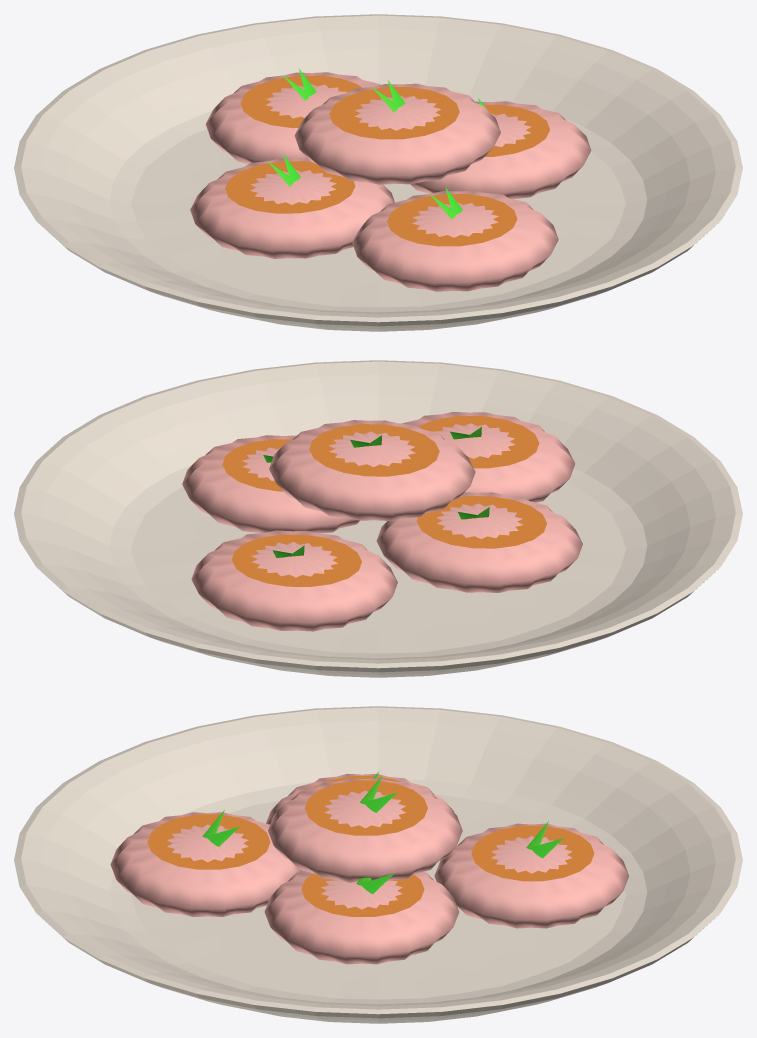
File: kue kamir.fbx
The picture shows the model from 3 angles, top to bottom: view 1: azimuth 30°, elevation 25°; view 2: azimuth 150°, elevation 25°; view 3: azimuth 270°, elevation 25°; orthographic projection.
Visible parts, largest first — view 1: Cylinder, Cylinder.005, Cylinder.007, Cylinder.009, Cylinder.001, Cylinder.003, Cylinder.006, Cylinder.008, Cylinder.010, Cylinder.004, Cylinder.002; view 2: Cylinder, Cylinder.007, Cylinder.003, Cylinder.009, Cylinder.001, Cylinder.005, Cylinder.008, Cylinder.004, Cylinder.010, Cylinder.006, Cylinder.002; view 3: Cylinder, Cylinder.007, Cylinder.003, Cylinder.001, Cylinder.005, Cylinder.004, Cylinder.008, Cylinder.006, Cylinder.002, Cylinder.009.
Part boxes in pixels (x1=…): Cylinder: x1=14, y1=14, x2=742, y2=331; Cylinder.005: x1=352, y1=190, x2=558, y2=291; Cylinder.007: x1=294, y1=83, x2=500, y2=184; Cylinder.009: x1=190, y1=158, x2=394, y2=258; Cylinder.001: x1=410, y1=101, x2=591, y2=199; Cylinder.003: x1=205, y1=72, x2=380, y2=163; Cylinder.006: x1=387, y1=194, x2=517, y2=246; Cylinder.008: x1=329, y1=87, x2=459, y2=139; Cylinder.010: x1=225, y1=161, x2=355, y2=213; Cylinder.004: x1=240, y1=75, x2=361, y2=127; Cylinder.002: x1=484, y1=104, x2=549, y2=156; Cylinder: x1=14, y1=360, x2=742, y2=677; Cylinder.007: x1=269, y1=420, x2=475, y2=520; Cylinder.003: x1=191, y1=530, x2=397, y2=631; Cylinder.009: x1=376, y1=492, x2=582, y2=592; Cylinder.001: x1=182, y1=435, x2=359, y2=533; Cylinder.005: x1=401, y1=411, x2=575, y2=502; Cylinder.008: x1=309, y1=424, x2=439, y2=476; Cylinder.004: x1=231, y1=534, x2=361, y2=586; Cylinder.010: x1=416, y1=496, x2=546, y2=548; Cylinder.006: x1=419, y1=416, x2=539, y2=468; Cylinder.002: x1=222, y1=439, x2=292, y2=491; Cylinder: x1=14, y1=706, x2=742, y2=1023; Cylinder.007: x1=268, y1=778, x2=462, y2=882; Cylinder.003: x1=434, y1=823, x2=628, y2=928; Cylinder.001: x1=264, y1=871, x2=459, y2=964; Cylinder.005: x1=110, y1=812, x2=302, y2=916; Cylinder.004: x1=471, y1=825, x2=594, y2=881; Cylinder.008: x1=305, y1=780, x2=427, y2=835; Cylinder.006: x1=147, y1=814, x2=270, y2=869; Cylinder.002: x1=301, y1=873, x2=424, y2=916; Cylinder.009: x1=266, y1=773, x2=454, y2=824.
Size of the model in its own units: 231 by 47.84 by 231.
